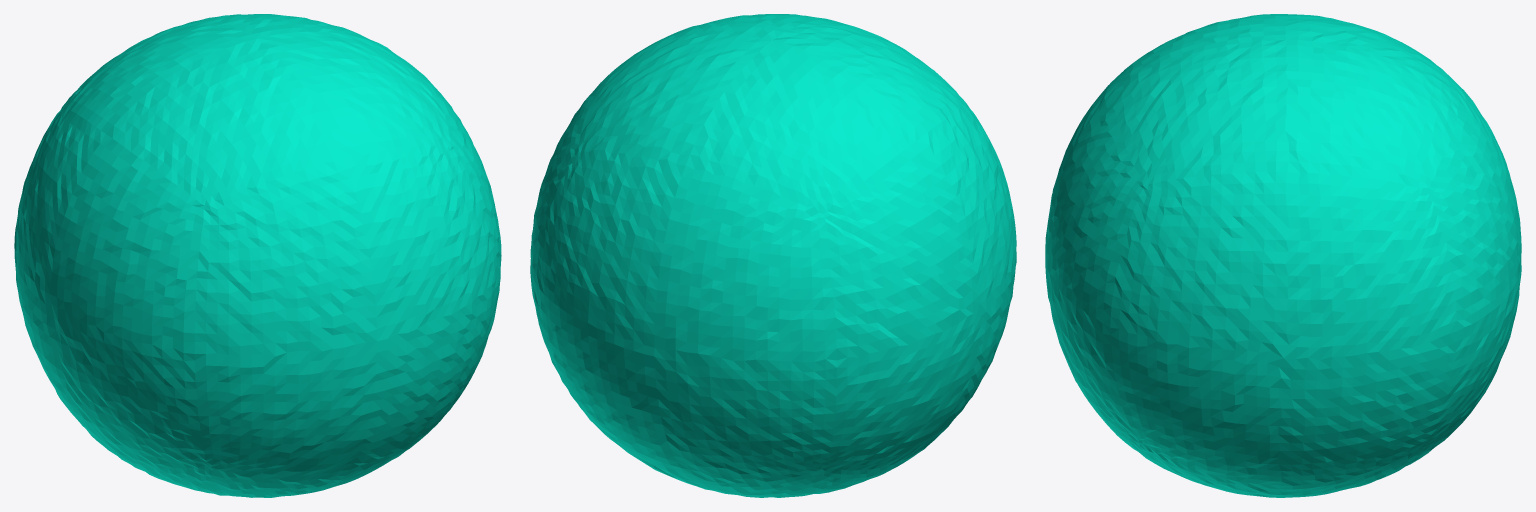
The model's file is Sea13.fbx.
3 renders of one model, left to right at view 1: azimuth 30°, elevation 25°; view 2: azimuth 150°, elevation 25°; view 3: azimuth 270°, elevation 25°, orthographic.
Parts seen in each view (by area): view 1: pCube1; view 2: pCube1; view 3: pCube1.
Part boxes in pixels (x1,y1,x2,y2): pCube1: [14, 14, 501, 497]; pCube1: [530, 14, 1016, 497]; pCube1: [1045, 14, 1521, 497].
Size of the model in its own units: 40.19 by 40.18 by 40.16.
